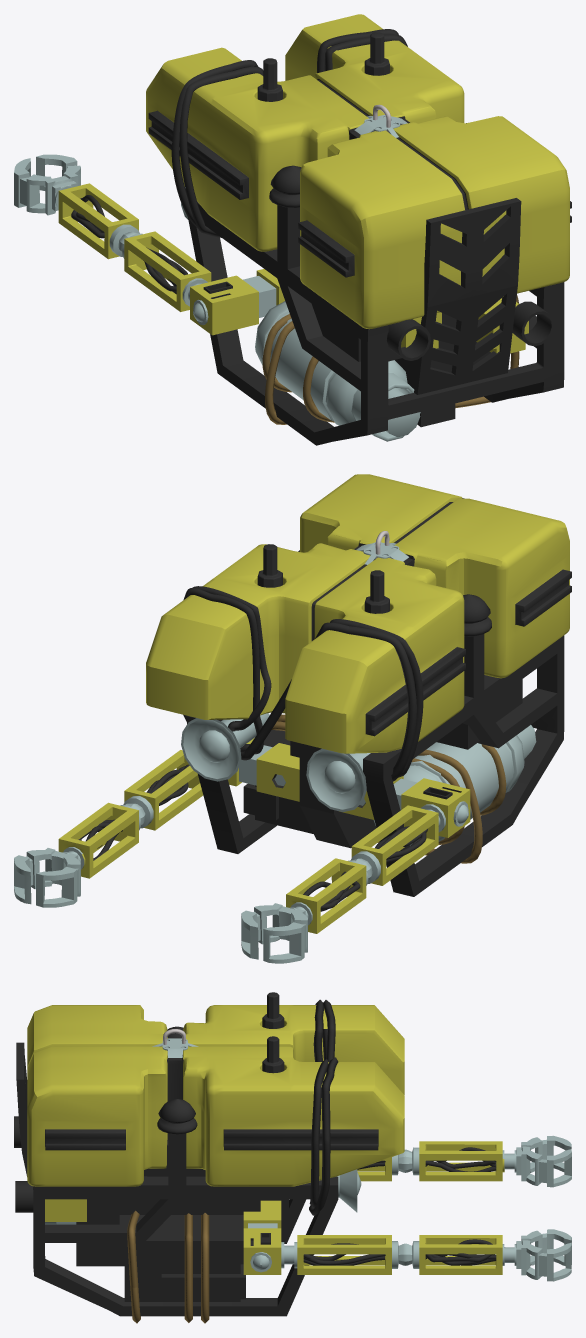
The model's file is ROV_Test_3.fbx.
3 views of the same model, one above another, from view 1: azimuth 30°, elevation 25°; view 2: azimuth 150°, elevation 25°; view 3: azimuth 270°, elevation 25° (orthographic). The views are drawn at different scales.
Parts seen in each view (by area): view 1: ROV, ARML; view 2: ROV, ARML, armR; view 3: ROV, armR, ARML, Cylinder.042, Cylinder.036, Cylinder.051.
Boxes of the visible parts, x1,y1,x2,y2 form: ROV: (146,14,571,445); ARML: (14,154,284,335); ROV: (146,474,571,896); ARML: (241,776,470,963); armR: (14,738,299,907); ROV: (14,992,404,1323); armR: (243,1200,571,1281); ARML: (357,1135,571,1187); Cylinder.042: (425,1239,496,1265); Cylinder.036: (303,1243,385,1265); Cylinder.051: (425,1147,496,1171).
Bounding box in the file's own units: 480 × 511 × 958.
